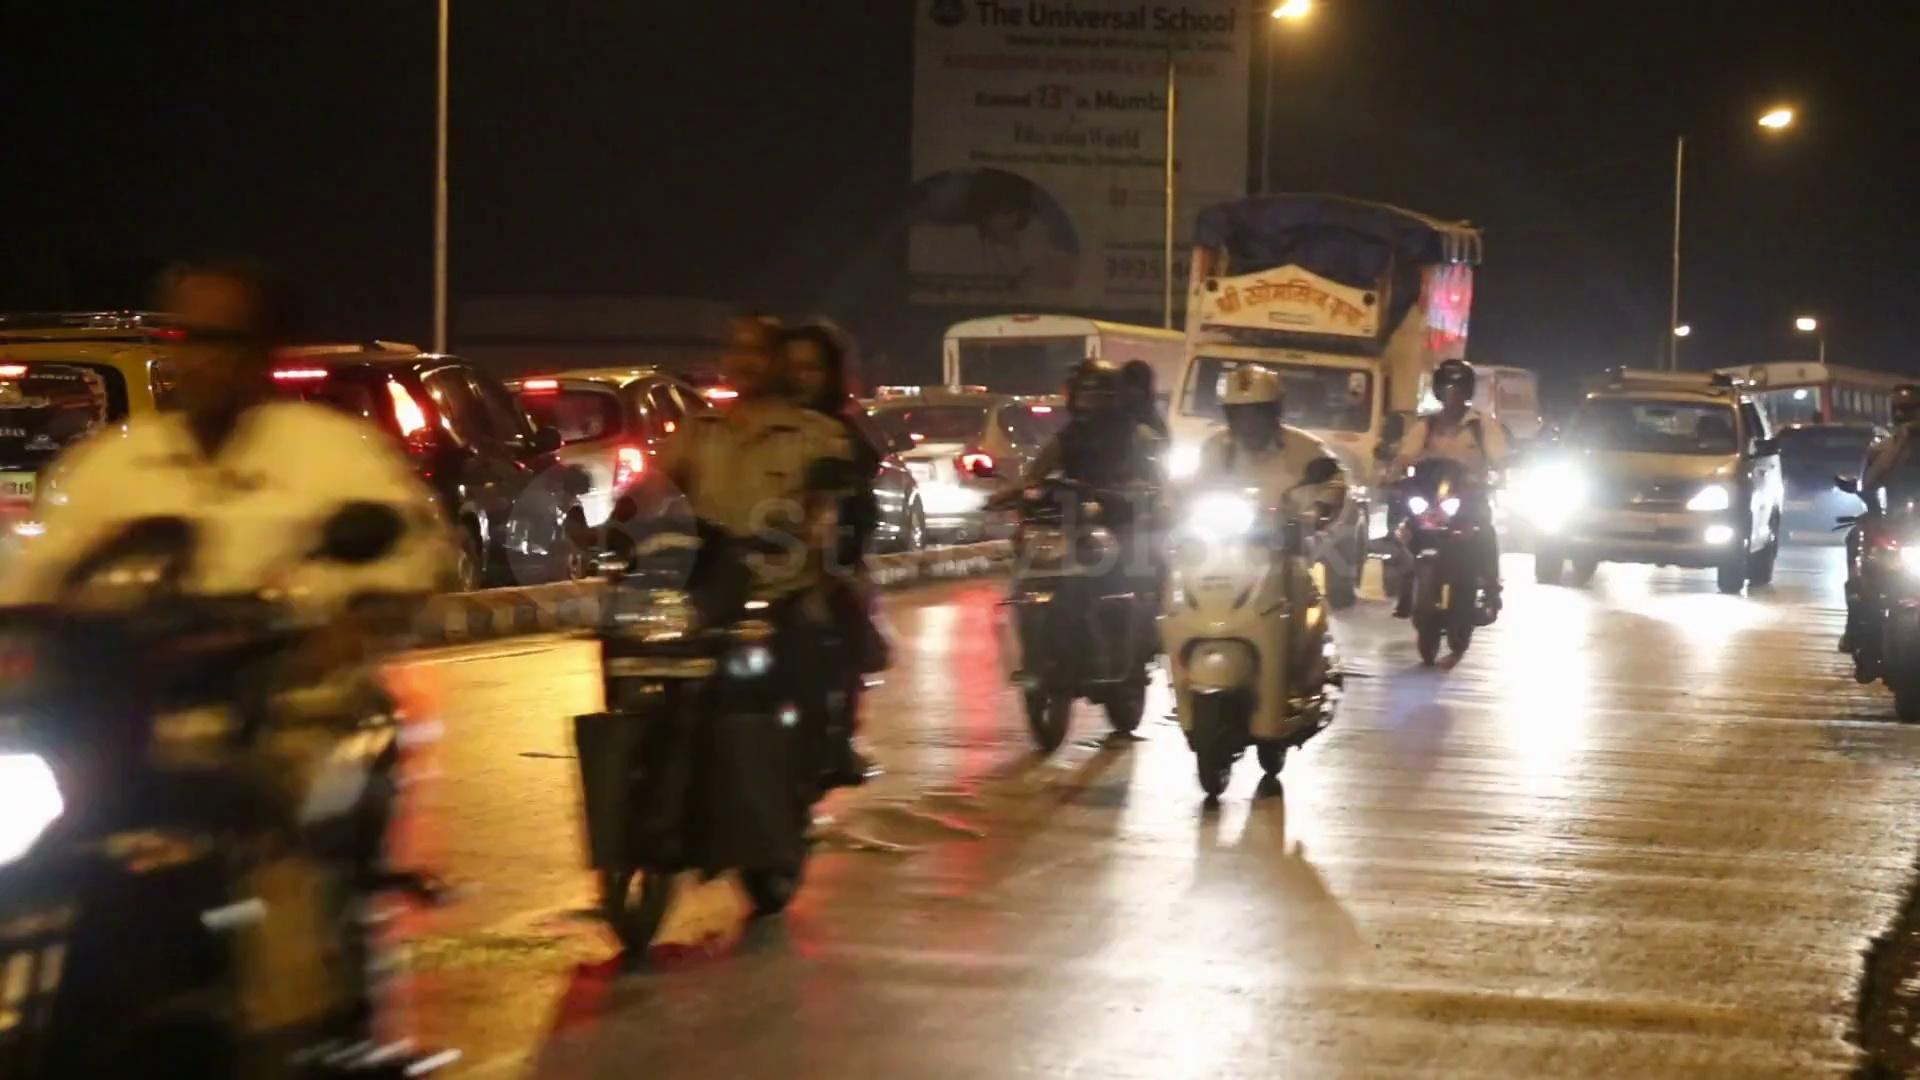rider: (24, 259, 424, 1073), (564, 287, 899, 937), (985, 356, 1168, 742), (1380, 357, 1514, 625), (1859, 380, 1919, 734)
with_helmate: (1209, 371, 1287, 443), (1054, 367, 1133, 424), (1427, 356, 1479, 406)
without_helmate: (150, 279, 293, 424), (694, 306, 786, 403), (790, 320, 856, 411)
